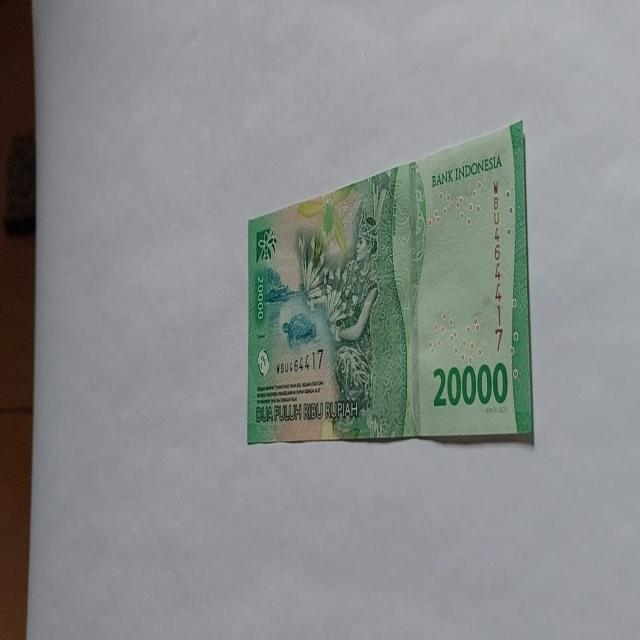dua puluh ribu rupiah: (246, 118, 534, 447)
